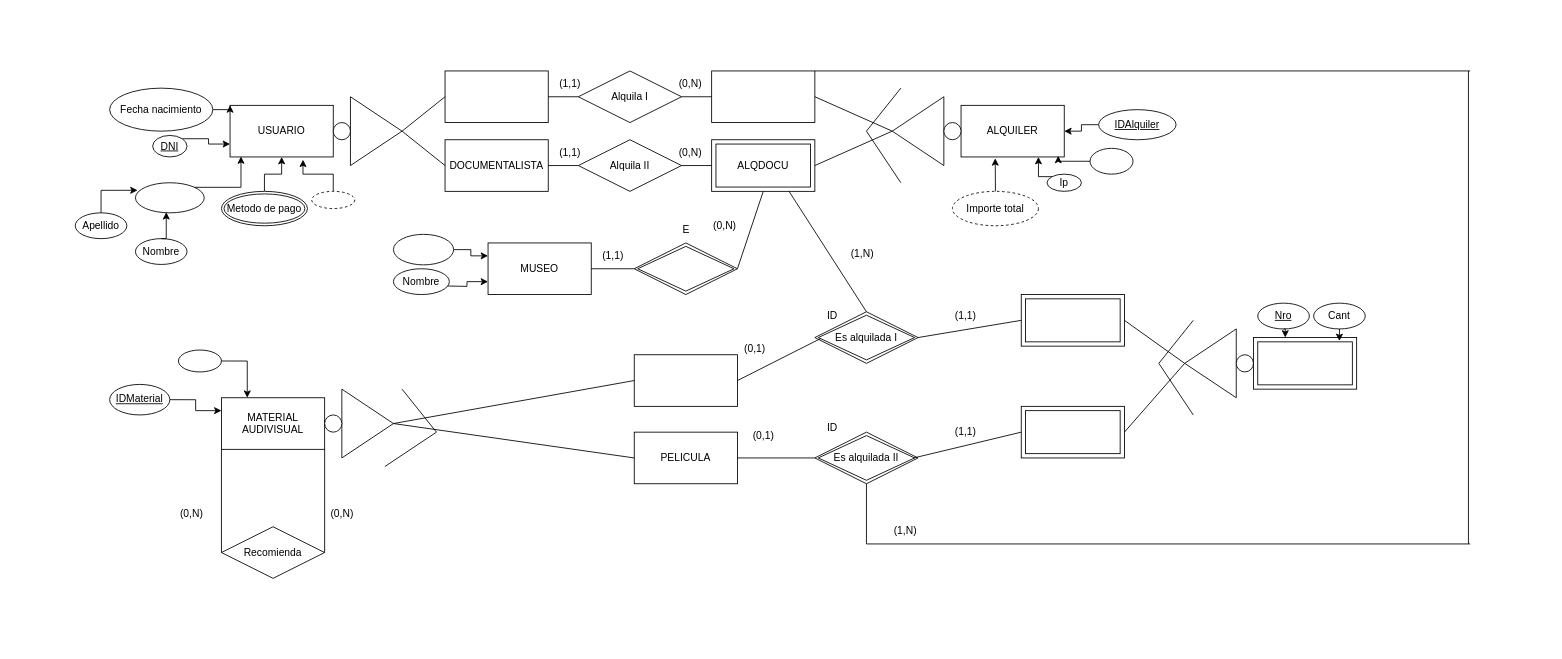
Some shapes in this 1562 by 659 pixel diagram are drawn without their labels. The shapes that lost their labels are listed below. From the top down, each one's box as (x1, y1, x2, y2) in pixels, then its label:
(444, 70, 548, 123): AFICIONADO
(711, 70, 815, 123): ALQAFI
(1089, 147, 1133, 174): Fecha
(135, 182, 204, 213): Nombre completo
(311, 190, 355, 209): Edad
(393, 233, 454, 265): IDMuseo
(633, 242, 737, 295): Se asocia con
(1020, 294, 1124, 346): LINEA DE ALQDOCU
(178, 349, 221, 372): Precio
(633, 354, 737, 406): DOCUMENTAL
(1253, 337, 1357, 389): LINEA
(1020, 405, 1124, 458): LINEA DE ALQAFI
